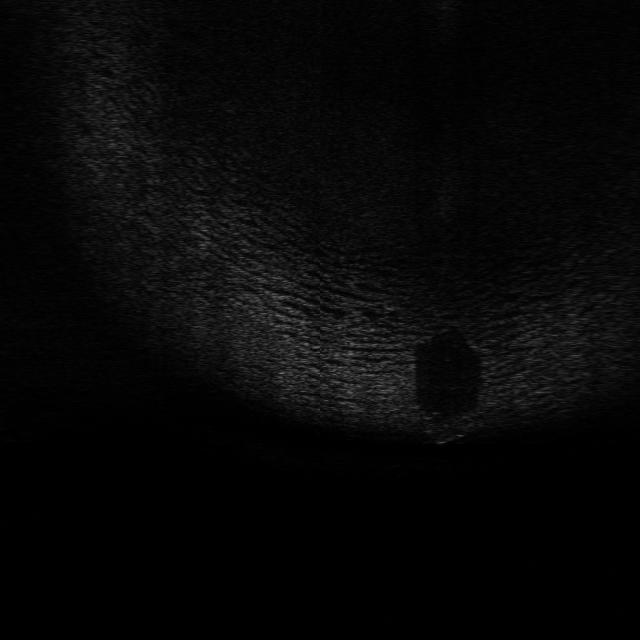cube: (418, 404, 486, 444)
